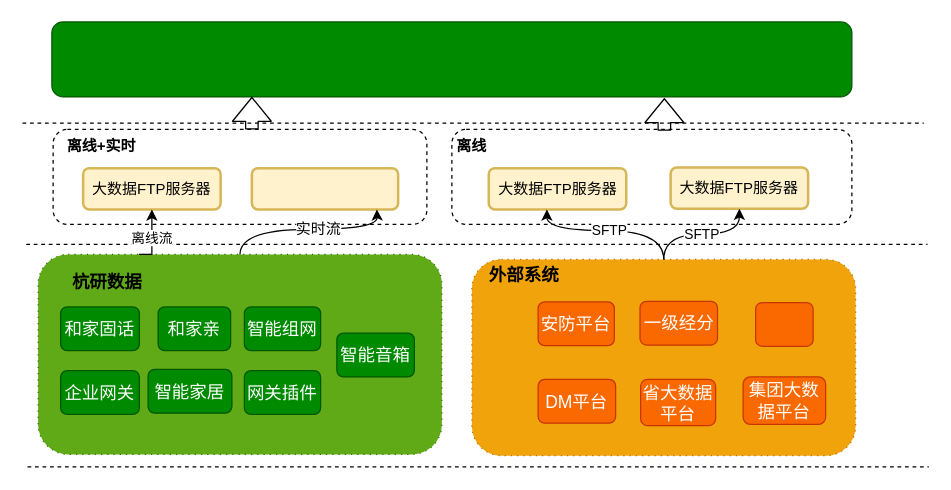
Some shapes in this 951 by 490 pixel diagram are drawn without their labels. The shapes that lost their labels are listed below. From the top down, each one's centre as x and y in pixels, then its label:
At (451,59): "家庭业务数据中心".
At (324,188): "Kafka 集群".
At (783,323): "咪咕".
